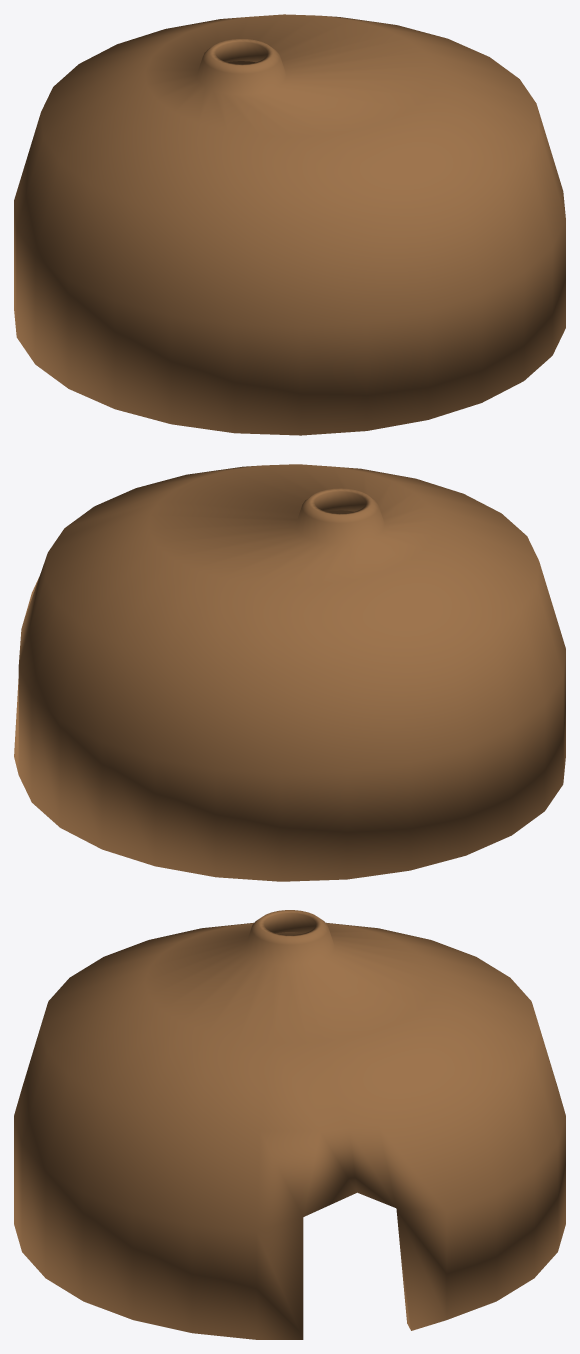
File: savimaja1.fbx
The picture shows the model from 3 angles, top to bottom: view 1: azimuth 30°, elevation 25°; view 2: azimuth 150°, elevation 25°; view 3: azimuth 270°, elevation 25°; orthographic projection.
Visible parts, largest first — view 1: Circle; view 2: Circle; view 3: Circle.
Boxes of the visible parts, x1,y1,x2,y2 form: Circle: (14,14,565,435); Circle: (14,464,565,881); Circle: (14,910,565,1339).
Size of the model in its own units: 1329 by 742 by 1339.
